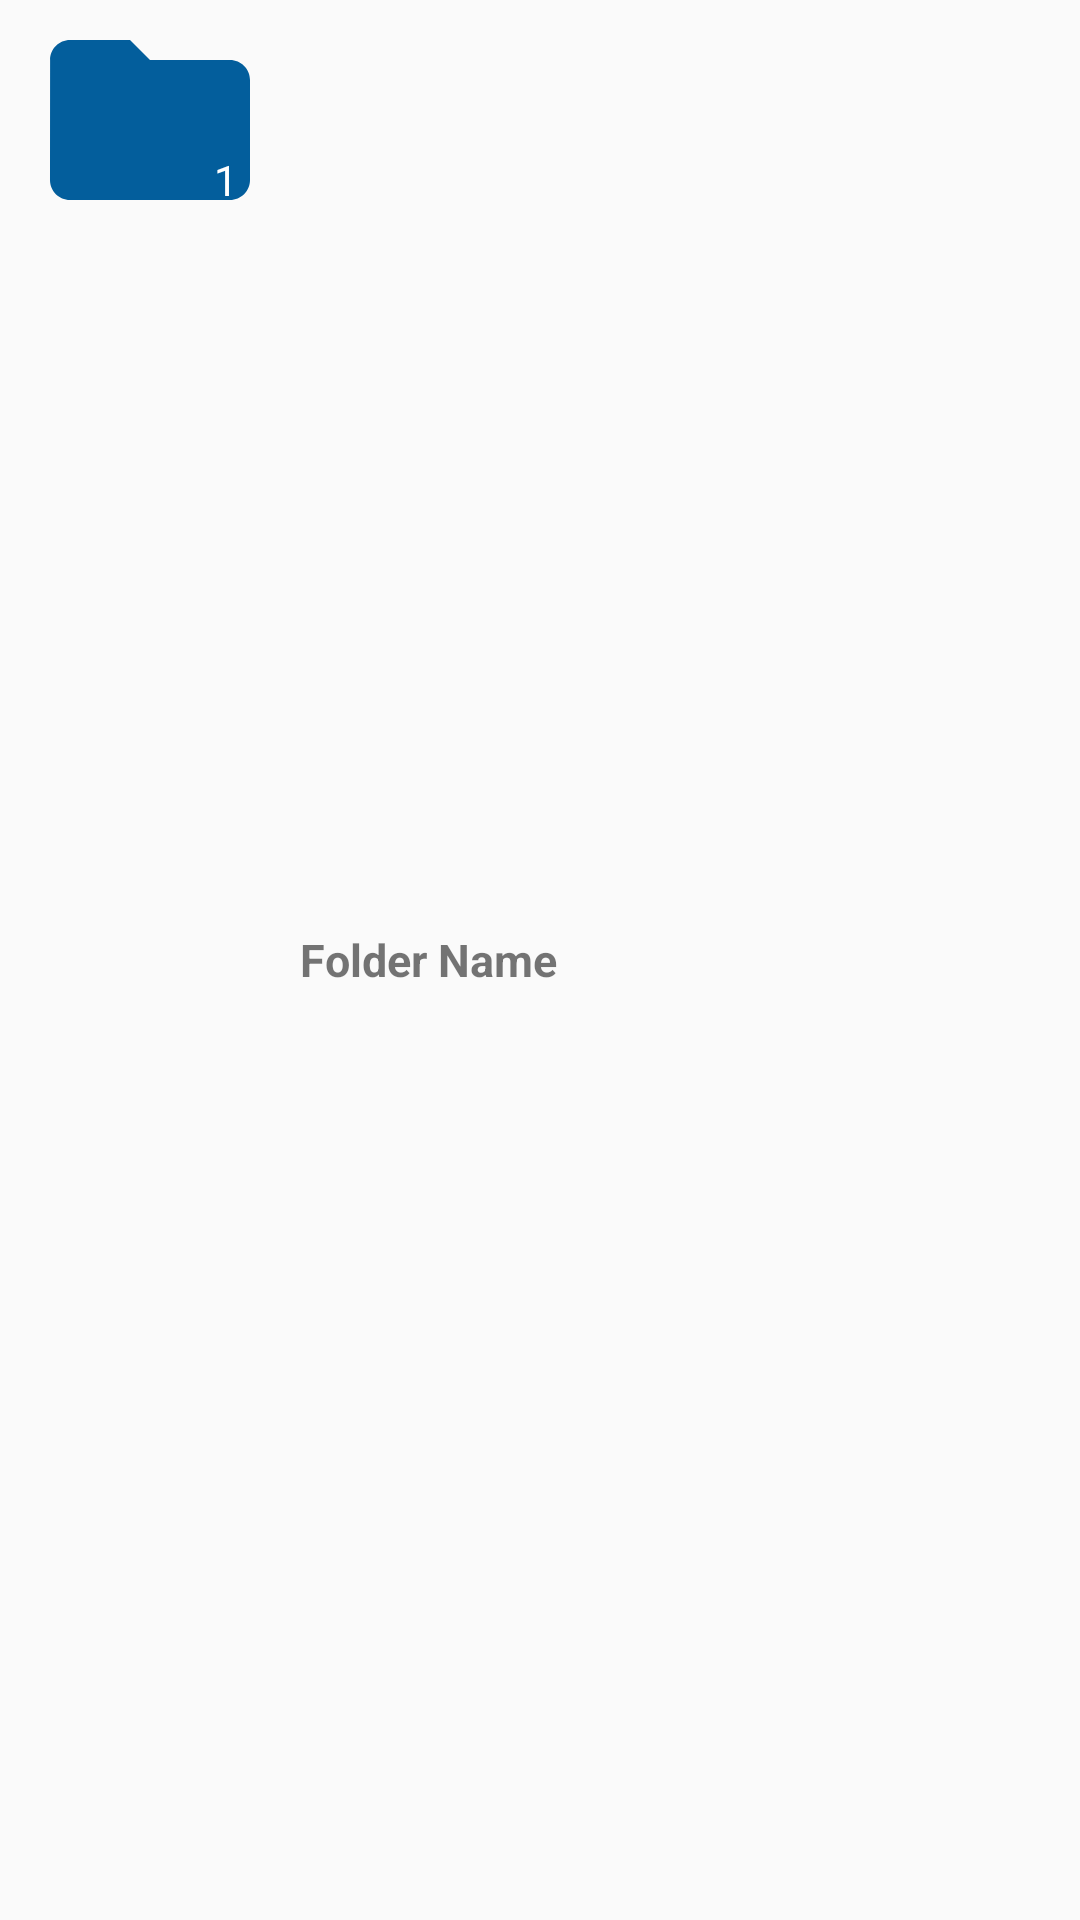

Icon click points for this 1080 x 1920 phone screenshot, format [x,y]:
folder: [150,120]
